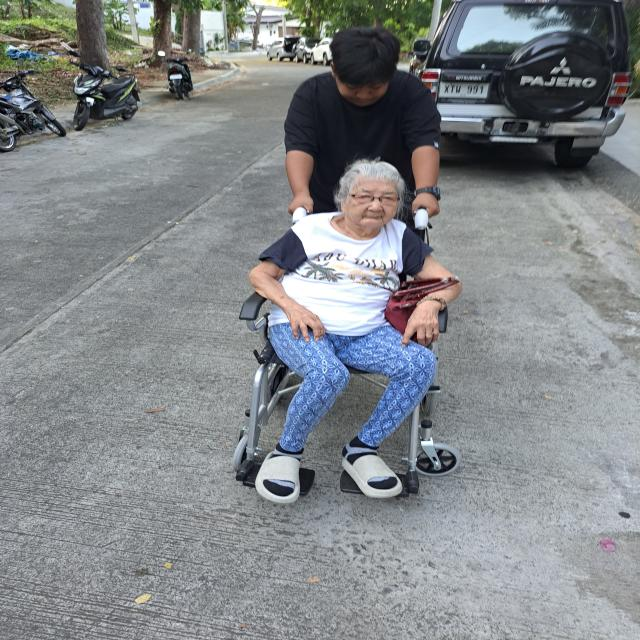wheelchairs: (232, 206, 458, 504)
